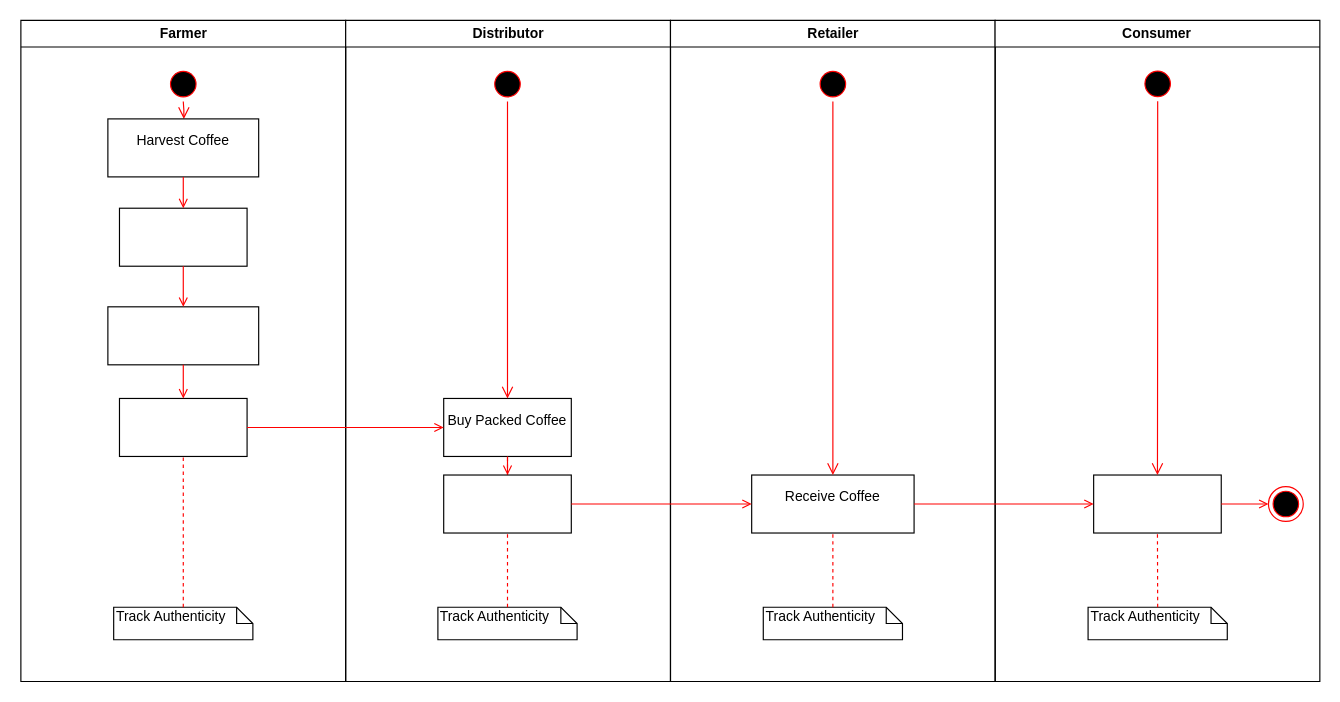
Some shapes in this 1340 by 702 pixel diagram are drawn without their labels. Each missing label, with the centre of its shape:
Add For Sale: the point at 182,426
Pack Coffee: the point at 183,335
Process Coffee: the point at 182,236
Purchase Coffee: the point at 1156,503
Ship Coffee: the point at 507,503
